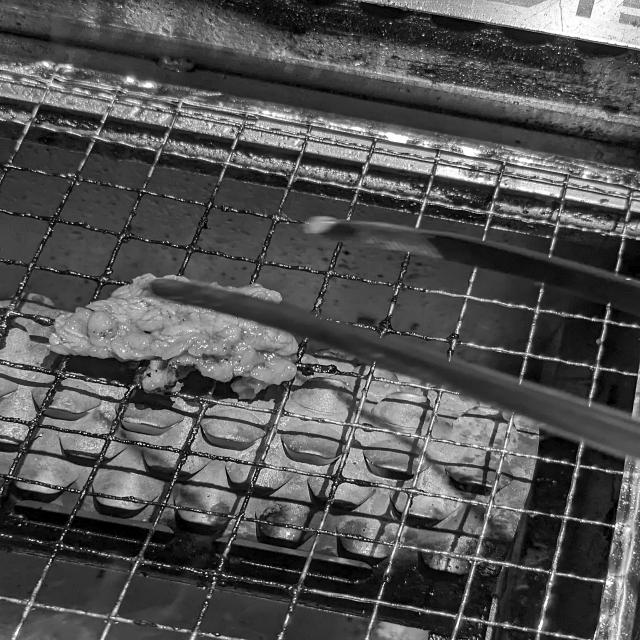OK cooked beef,: (37, 253, 322, 404)
